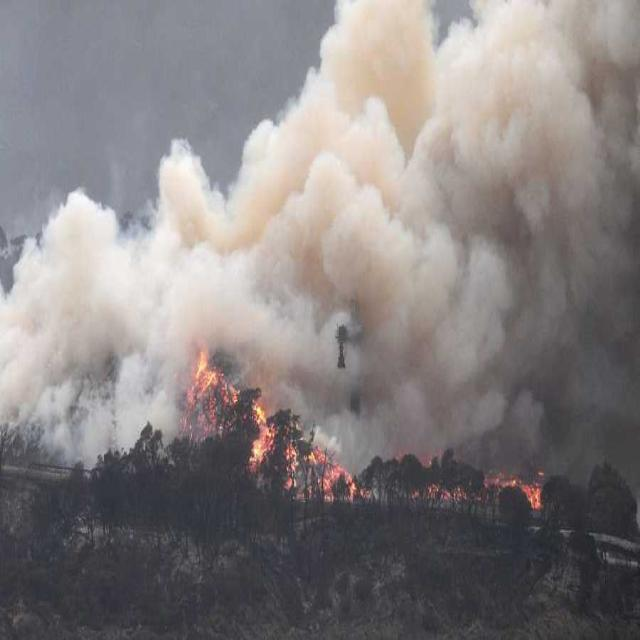Fire: (192, 344, 238, 404), (306, 446, 355, 500), (251, 405, 276, 464), (285, 441, 300, 488), (521, 479, 541, 511)
Smoke: (42, 358, 176, 454), (314, 388, 440, 460), (2, 280, 38, 444), (156, 139, 210, 243), (445, 390, 501, 453), (513, 384, 543, 469)
